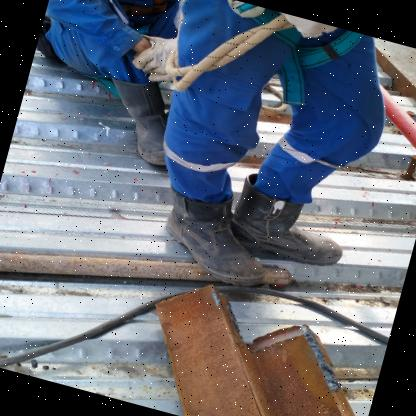bota: (222, 172, 362, 274), (144, 186, 274, 290), (90, 71, 188, 170)
